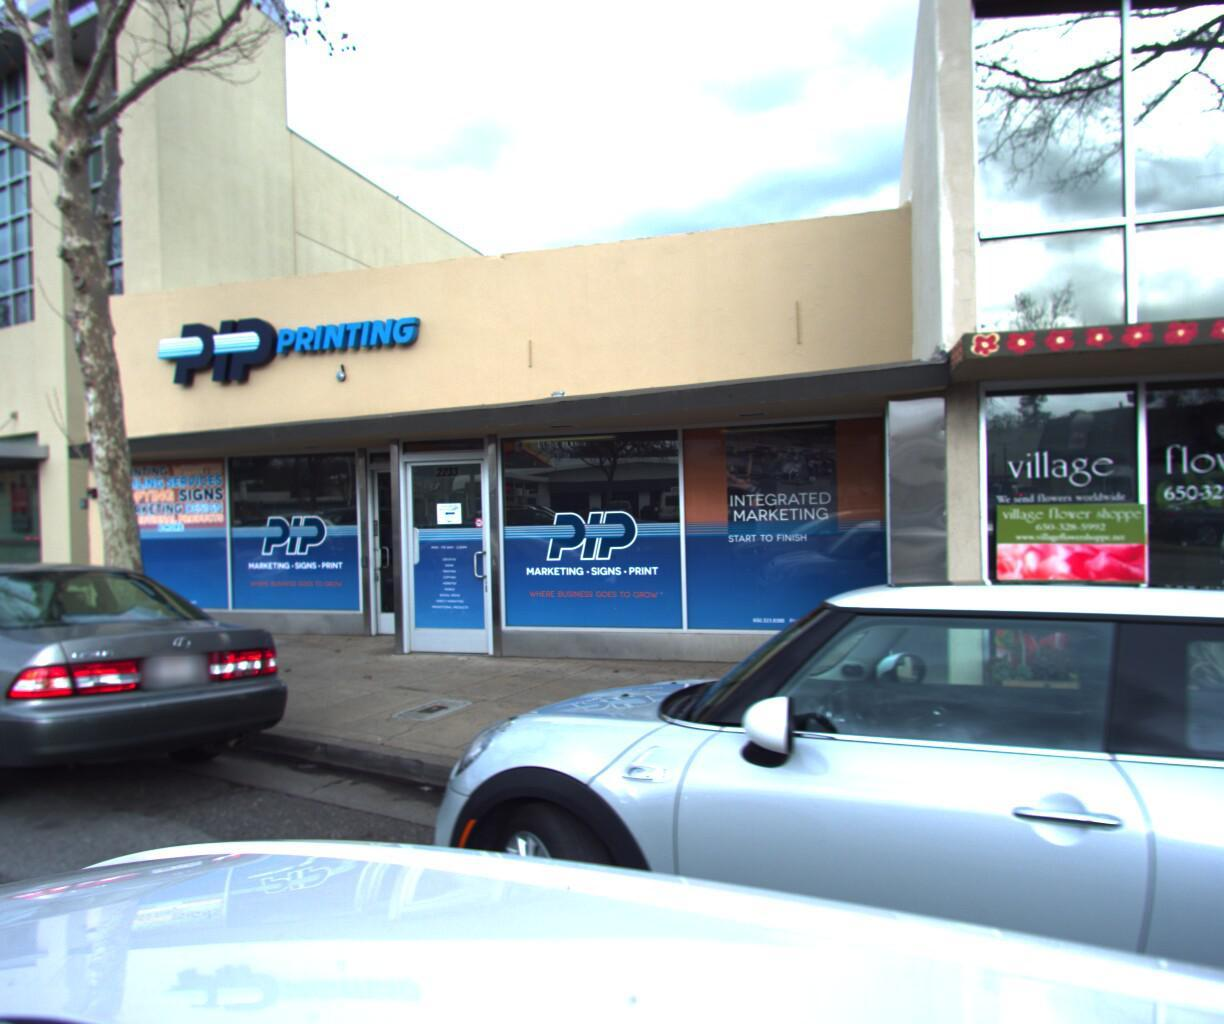car: (362, 558, 1224, 1024), (0, 548, 322, 869)
